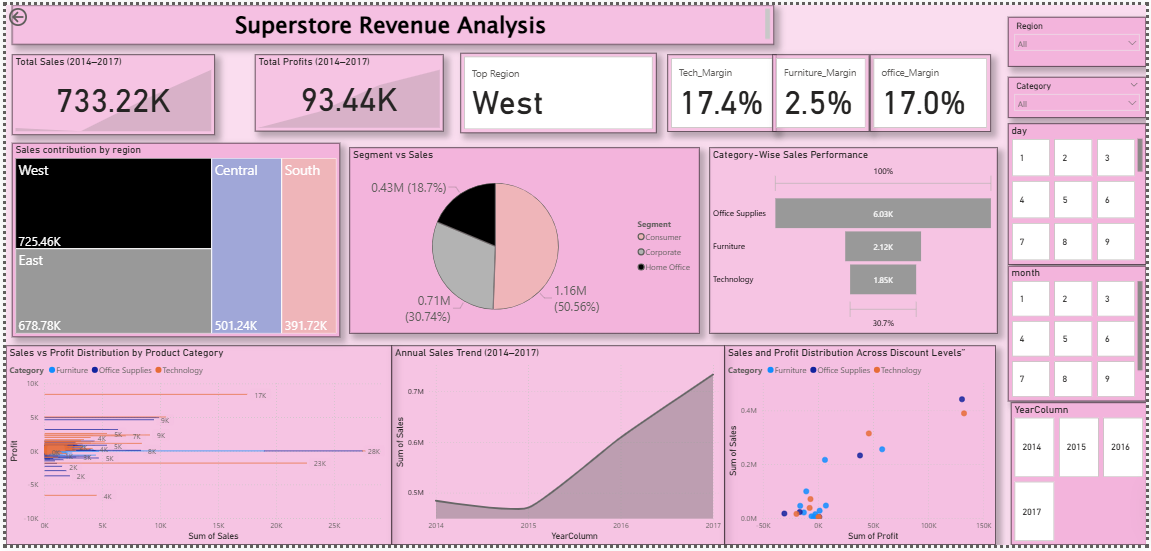

The dashboard page shown, as its layout file describes it:
{"tool":"powerbi","page":{"name":"Page 1","canvas":[1900,900],"ordinal":0},"visuals":[{"type":"textbox","box":[9.4,0,1269.9,66.1],"z":0},{"type":"cardVisual","title":"Technology","fields":{"Data":["Sample - Superstore.Tech_Margin"]},"box":[1101.4,83.1,181.4,128.6],"z":0,"group":"g2"},{"type":"cardVisual","title":"Furniture","fields":{"Data":["Sample - Superstore.Furniture_Margin"]},"box":[1276.9,82.9,161.4,128.6],"z":1000,"group":"g2"},{"type":"barChart","title":"Sales vs Profit Distribution by Product Category","fields":{"Category":["Sample - Superstore.Profit"],"Y":["Sum(Sample - Superstore.Sales)"],"Series":["Sample - Superstore.Category"]},"box":[0,568.3,643.3,331.7],"z":1000},{"type":"cardVisual","title":"Office supplies","fields":{"Data":["Sample - Superstore.office_Margin"]},"box":[1438.3,82.9,201.4,128.6],"z":2000,"group":"g2"},{"type":"lineChart","title":"Annual Sales Trend (2014–2017)","fields":{"Y":["Sum(Sample - Superstore.Sales)"],"Category":["Sample - Superstore.YearColumn"]},"box":[643.3,568.3,555,331.7],"z":2000},{"type":"actionButton","box":[0,0,100,40],"z":3000},{"type":"kpi","title":"Total Sales (2014–2017)","fields":{"Indicator":["Sum(Sample - Superstore.Sales)"],"TrendLine":["Sample - Superstore.YearColumn"]},"box":[10,82,338,134],"z":4000},{"type":"kpi","title":"Total Profits (2014–2017)","fields":{"Indicator":["Sum(Sample - Superstore.Profit)"],"TrendLine":["Sample - Superstore.YearColumn"]},"box":[416,82,314,128],"z":5000},{"type":"funnel","title":"Category-Wise Sales Performance","fields":{"Category":["Sample - Superstore.Category"],"Y":["CountNonNull(Sample - Superstore.Sales)"]},"box":[1173.3,236.7,480,310],"z":6000},{"type":"treemap","title":"Sales contribution by region","fields":{"Group":["Sample - Superstore.Region"],"Values":["Sum(Sample - Superstore.Sales)"]},"box":[10,230,546.7,323.3],"z":7000},{"type":"pieChart","title":"Segment vs Sales","fields":{"Category":["Sample - Superstore.Segment"],"Y":["Sum(Sample - Superstore.Sales)"]},"box":[573.3,236.7,583.3,310],"z":8000},{"type":"scatterChart","title":"Sales and Profit Distribution Across Discount Levels”","fields":{"X":["Sum(Sample - Superstore.Profit)"],"Category":["Sample - Superstore.Discount"],"Y":["Sum(Sample - Superstore.Sales)"],"Series":["Sample - Superstore.Category"]},"box":[1198.3,568.3,451.7,331.7],"z":9000},{"type":"slicer","fields":{"Values":["Sample - Superstore.Region"]},"box":[1670,20,230,82.4],"z":10000,"group":"g1"},{"type":"cardVisual","fields":{"Data":["Sample - Superstore.Top Region"]},"box":[756.7,80,326.7,133.3],"z":10000},{"type":"group","id":"g1","title":"Group 1","box":[1670,20,230,880],"z":11000},{"type":"slicer","fields":{"Values":["Sample - Superstore.Category"]},"box":[1670,119.4,230,67.9],"z":11000,"group":"g1"},{"type":"group","id":"g2","title":"Group 2","box":[1101.4,82.9,538.6,128.6],"z":12000},{"type":"advancedSlicerVisual","fields":{"Values":["Sample - Superstore.day"]},"box":[1670,197,230,235.2],"z":12000,"group":"g1"},{"type":"advancedSlicerVisual","fields":{"Values":["Sample - Superstore.month"]},"box":[1670,434.5,230,225.5],"z":13000,"group":"g1"},{"type":"advancedSlicerVisual","fields":{"Values":["Sample - Superstore.YearColumn"]},"box":[1674,662.4,226,237.6],"z":14000,"group":"g1"}]}

Visuals, with their boxes in screenshot pixels (x1, y1, x2, y2), scaled from the page's 1900x900 canvas onto the 1151x551 screenshot:
textbox: <bbox>6, 0, 775, 40</bbox>
"Technology" cardVisual: <bbox>667, 51, 777, 130</bbox>
"Furniture" cardVisual: <bbox>774, 51, 871, 129</bbox>
"Sales vs Profit Distribution by Product Category" barChart: <bbox>0, 348, 390, 550</bbox>
"Office supplies" cardVisual: <bbox>871, 51, 993, 129</bbox>
"Annual Sales Trend (2014–2017)" lineChart: <bbox>390, 348, 726, 550</bbox>
actionButton: <bbox>0, 0, 61, 24</bbox>
"Total Sales (2014–2017)" kpi: <bbox>6, 50, 211, 132</bbox>
"Total Profits (2014–2017)" kpi: <bbox>252, 50, 442, 129</bbox>
"Category-Wise Sales Performance" funnel: <bbox>711, 145, 1002, 335</bbox>
"Sales contribution by region" treemap: <bbox>6, 141, 337, 339</bbox>
"Segment vs Sales" pieChart: <bbox>347, 145, 701, 335</bbox>
"Sales and Profit Distribution Across Discount Levels”" scatterChart: <bbox>726, 348, 1000, 550</bbox>
slicer - Sample - Superstore.Region: <bbox>1012, 12, 1150, 63</bbox>
cardVisual - Sample - Superstore.Top Region: <bbox>458, 49, 656, 131</bbox>
"Group 1" group: <bbox>1012, 12, 1150, 550</bbox>
slicer - Sample - Superstore.Category: <bbox>1012, 73, 1150, 115</bbox>
"Group 2" group: <bbox>667, 51, 993, 129</bbox>
advancedSlicerVisual - Sample - Superstore.day: <bbox>1012, 121, 1150, 265</bbox>
advancedSlicerVisual - Sample - Superstore.month: <bbox>1012, 266, 1150, 404</bbox>
advancedSlicerVisual - Sample - Superstore.YearColumn: <bbox>1014, 406, 1150, 550</bbox>
